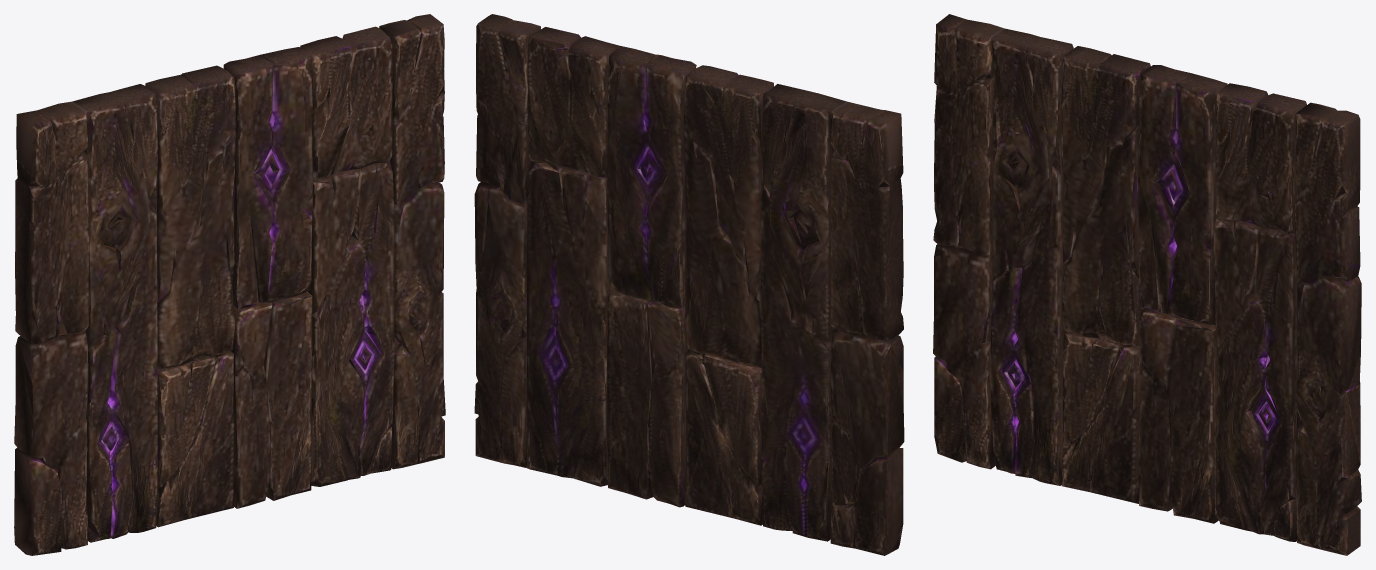
File: throne-floor.glb
3 views of the same model, side by side, from view 1: azimuth 30°, elevation 25°; view 2: azimuth 150°, elevation 25°; view 3: azimuth 330°, elevation 25° (orthographic).
Visible parts, largest first — view 1: mesh_0; view 2: mesh_0; view 3: mesh_0.
Boxes of the visible parts, left/top/right/bottom form: mesh_0: left=14, top=14, right=445, bottom=555; mesh_0: left=474, top=14, right=904, bottom=555; mesh_0: left=933, top=14, right=1361, bottom=555.
Bounding box in the file's own units: 2 × 2 × 0.1843.
Materials: 1 (1 with a texture image).
